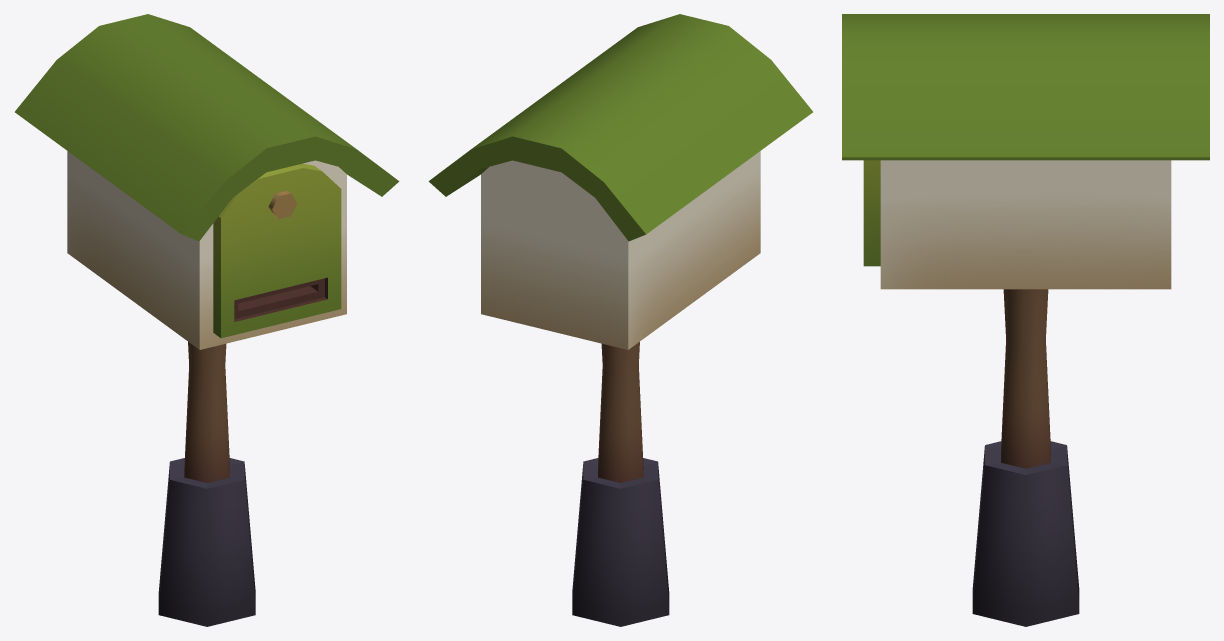
Rendered from Postbox.fbx.
3 views of the same model, side by side, from view 1: azimuth 30°, elevation 25°; view 2: azimuth 150°, elevation 25°; view 3: azimuth 270°, elevation 25° (orthographic). The views are drawn at different scales.
Parts seen in each view (by area): view 1: Cylinder001; view 2: Cylinder001; view 3: Cylinder001.
Part boxes in pixels (box(x1,y1,x2,y2)): Cylinder001: box(15, 14, 399, 626); Cylinder001: box(428, 14, 812, 626); Cylinder001: box(842, 14, 1209, 626).
Bounding box in the file's own units: 2.86 × 6.54 × 3.8.
1 material, 1 textured.
